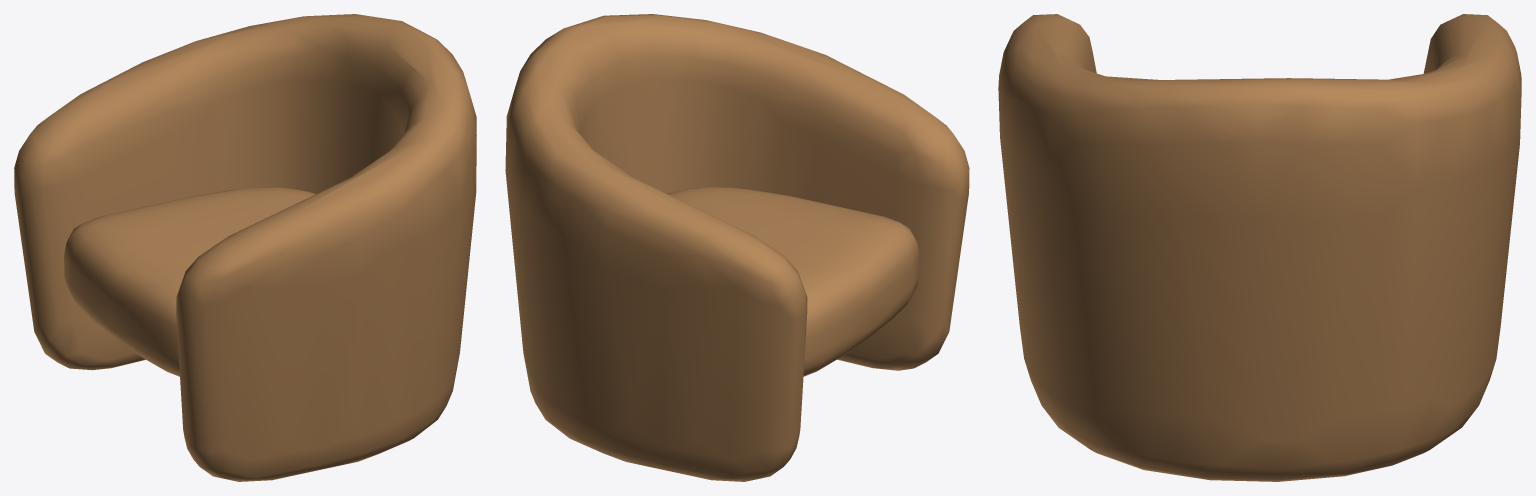
The model's file is armchair_05_brown.fbx.
3 renders of one model, left to right at view 1: azimuth 30°, elevation 25°; view 2: azimuth 150°, elevation 25°; view 3: azimuth 270°, elevation 25°, orthographic. The views are drawn at different scales.
Visible parts, largest first — view 1: armchair_05_brown; view 2: armchair_05_brown; view 3: armchair_05_brown.
Part boxes in pixels (bbox=[...]): armchair_05_brown: bbox=[14, 14, 476, 481]; armchair_05_brown: bbox=[505, 14, 969, 481]; armchair_05_brown: bbox=[998, 14, 1521, 481].
Bounding box in the file's own units: 113 × 103 × 120.
Materials: 1 (1 with a texture image).
